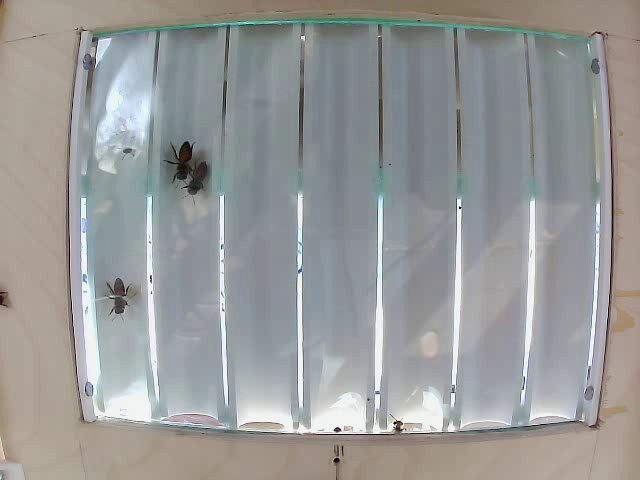bee: (104, 271, 142, 326), (170, 141, 201, 190), (188, 161, 211, 206)
